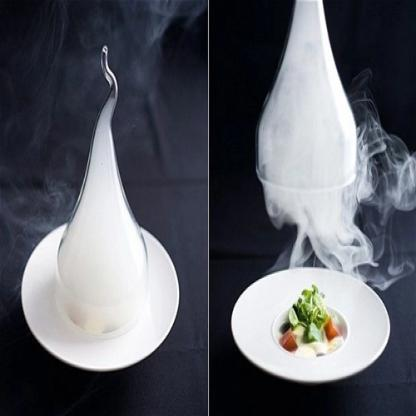smoke: (4, 8, 208, 272), (257, 0, 416, 317)
